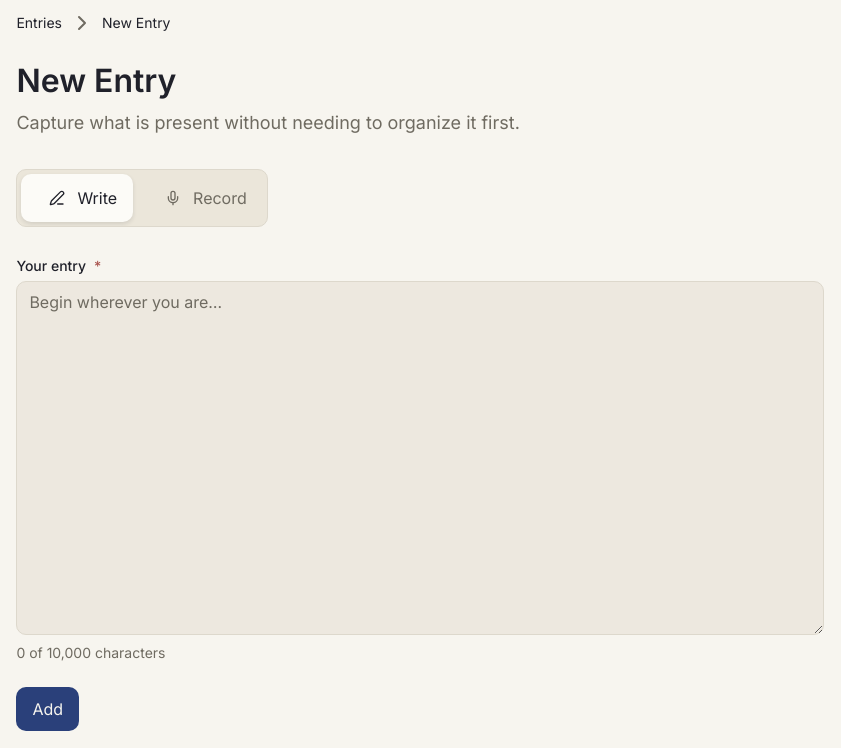
Scenario: NewEntryScreen › autosaves after 750 ms and does not warn for synchronized text
Type "Autosaved thought" into the text box labelled "Your entry" at (420, 458), box [16,281,824,635]
Wait 750 ms
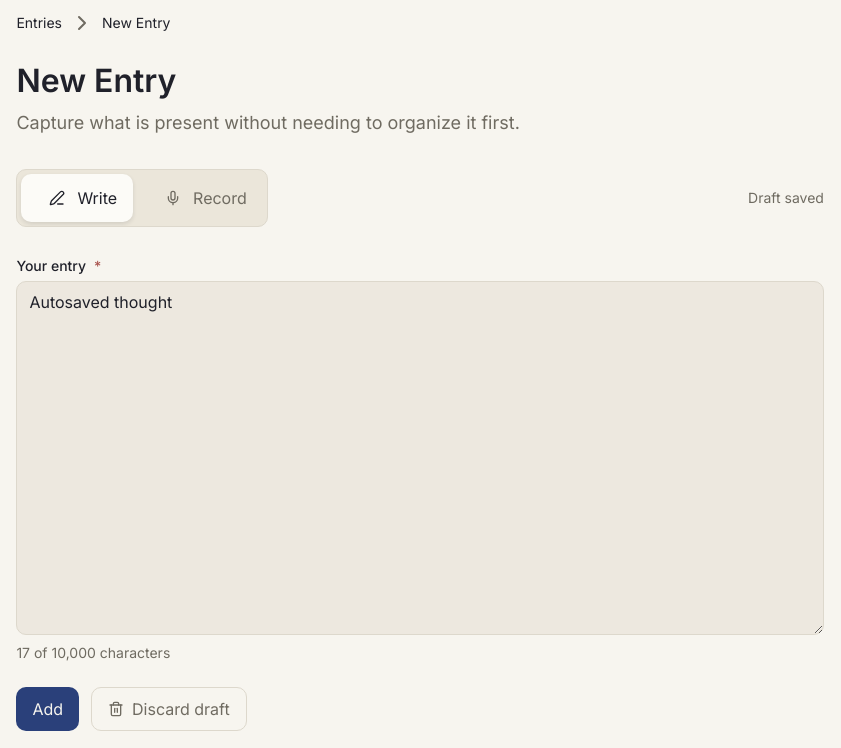
Check: the text "Draft saved" is shown, box [748,188,824,208]
